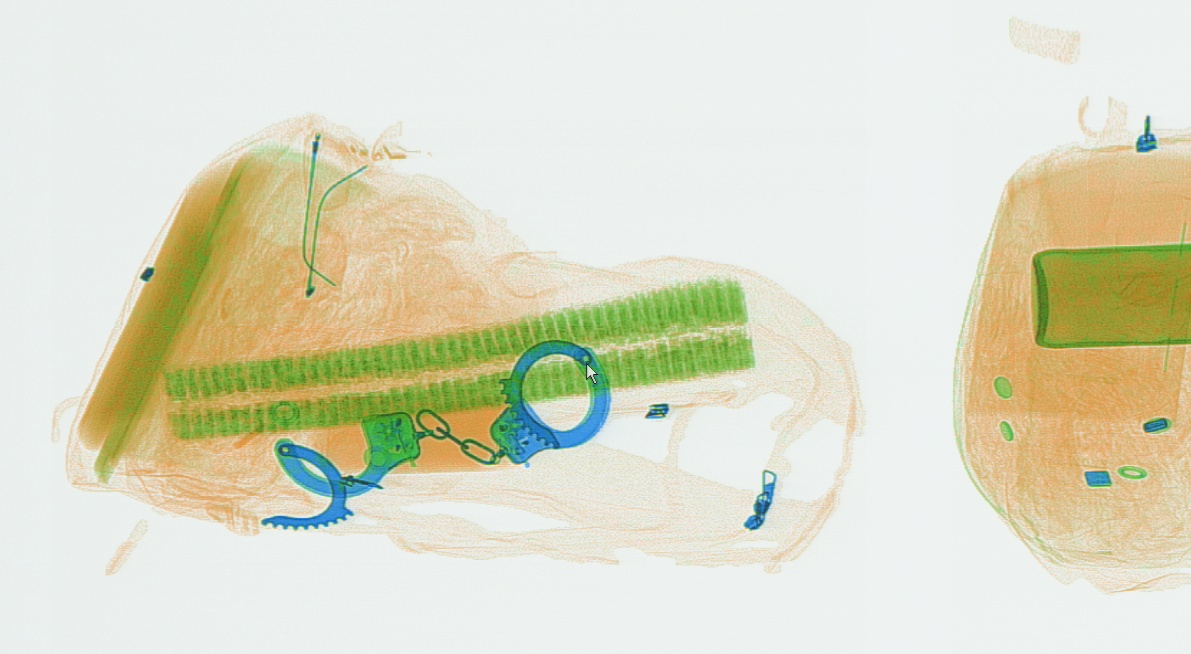firecrackers: (160, 273, 755, 441)
handcuffs: (255, 338, 616, 534)
